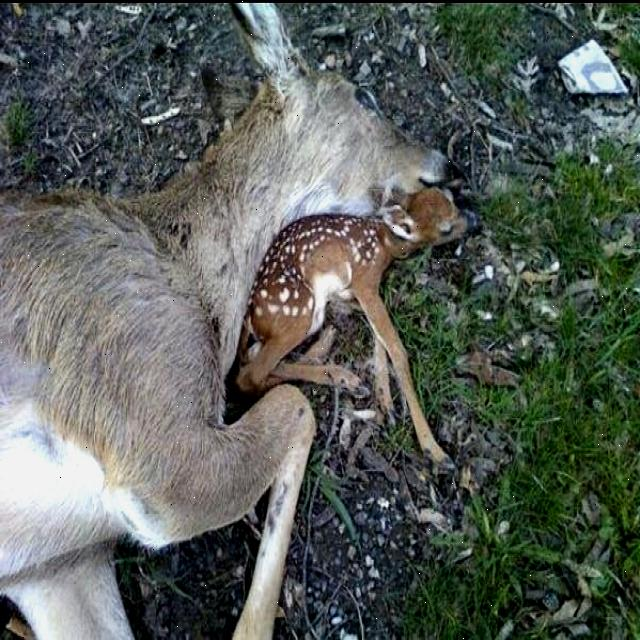deer: (239, 175, 481, 406)
